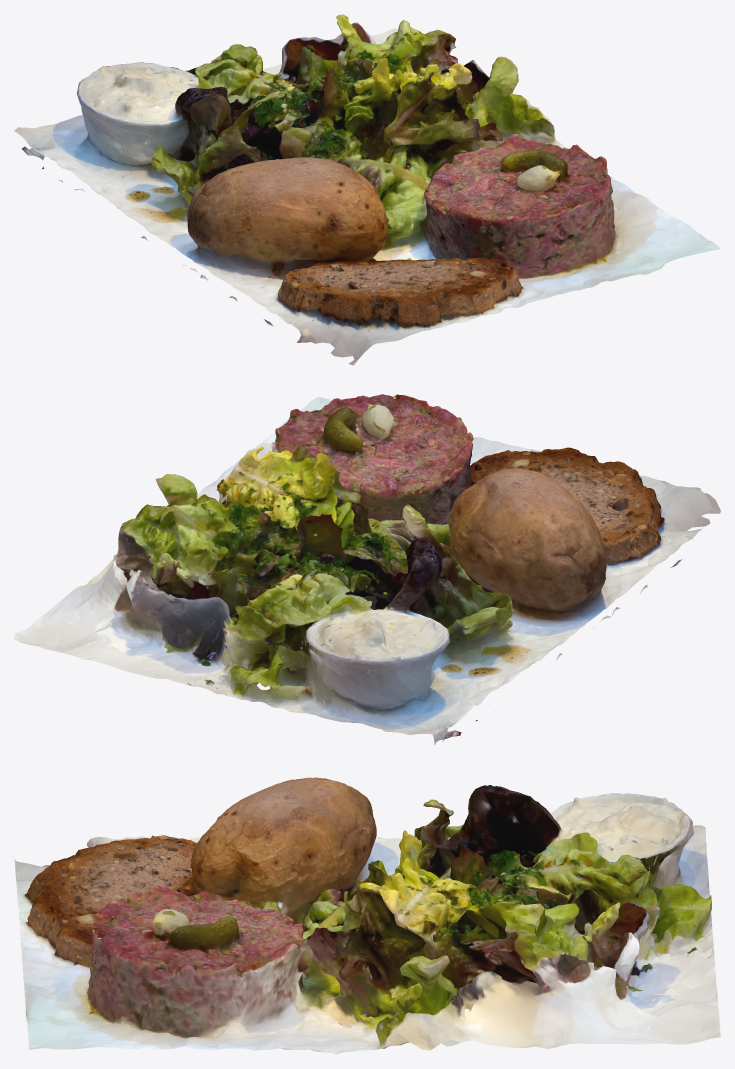
The model's file is tartar.glb.
3 renders of one model, top to bottom at view 1: azimuth 30°, elevation 25°; view 2: azimuth 150°, elevation 25°; view 3: azimuth 270°, elevation 25°, orthographic. The views are drawn at different scales.
Parts seen in each view (by area): view 1: Object_4; view 2: Object_4; view 3: Object_4.
Part boxes in pixels (x1,y1,x2,y2): Object_4: [14, 14, 720, 365]; Object_4: [14, 394, 720, 744]; Object_4: [14, 777, 720, 1054].
Size of the model in its own units: 0.2261 by 0.0694 by 0.3.
Materials: 1 (1 with a texture image).
